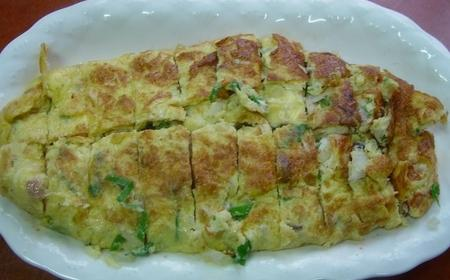gyelanmal-i: (3, 25, 444, 260)
